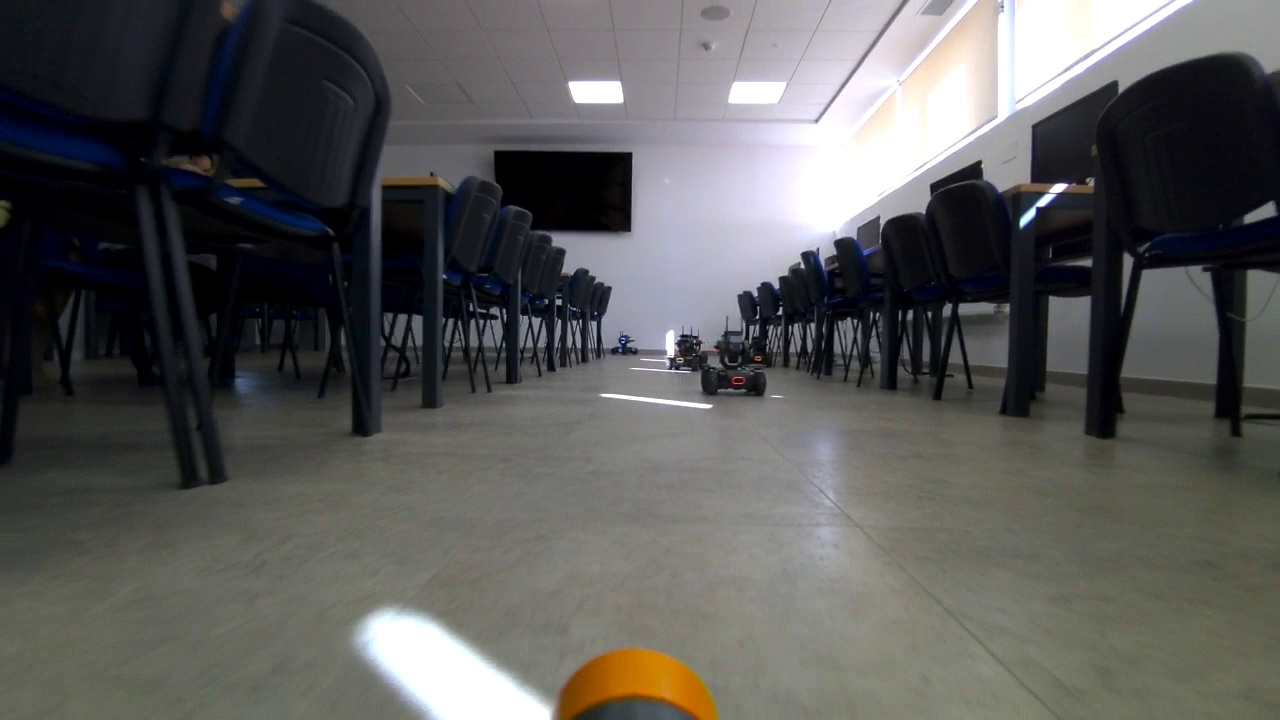robot: (703, 335, 767, 398), (668, 330, 713, 366), (611, 331, 641, 361)
